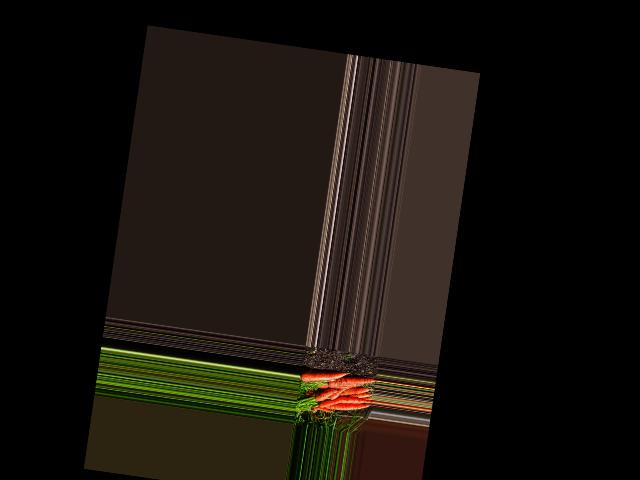carrot: (317, 392, 372, 414)
